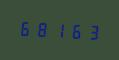eight: (34, 18, 49, 39)
one: (50, 19, 65, 40)
six: (18, 17, 33, 38), (66, 20, 81, 41)
three: (82, 21, 97, 41)
